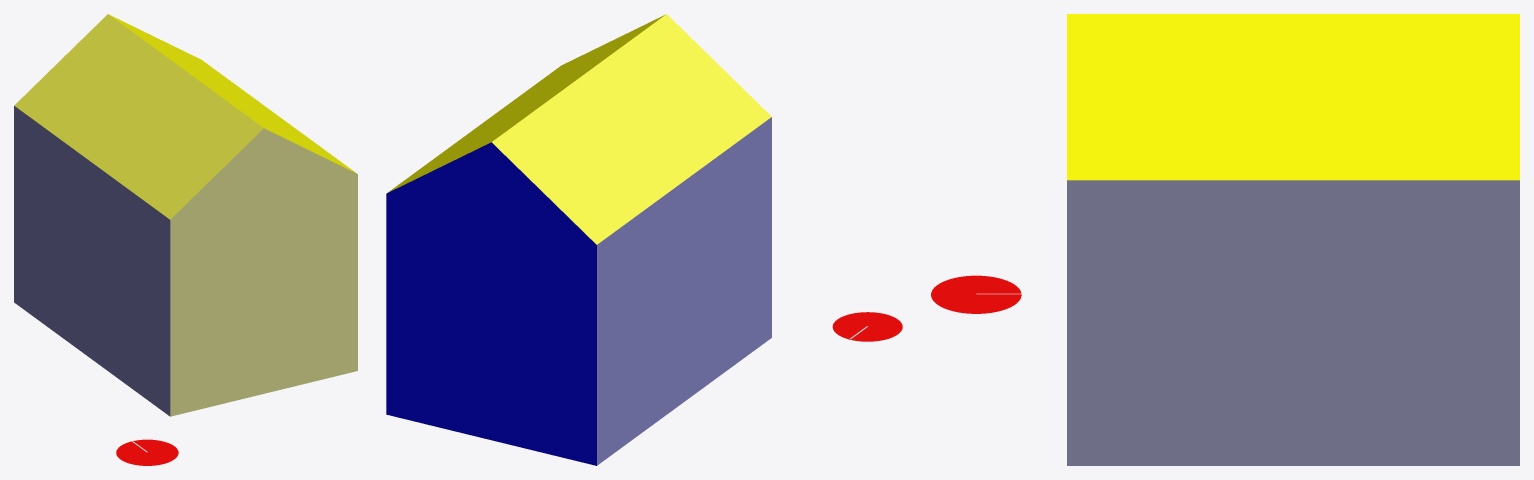
Rendered from result.glb.
3 renders of one model, left to right at view 1: azimuth 30°, elevation 25°; view 2: azimuth 150°, elevation 25°; view 3: azimuth 270°, elevation 25°, orthographic. The views are drawn at different scales.
Parts seen in each view (by area): view 1: ec253f11-99b7-464e-808f-eaf17b80f1d9__undefined, c889fe8f-2758-4382-b1b1-dce0883279e8__undefined, 06c58ec5-49f6-4bf1-b5e3-8625ea0445db__undefined, 00006077-73a7-4659-9203-0abc4ceca480__undefined, 352dc91b-900b-4596-84cf-ec7911061e7b__Circle; view 2: 68ba1d4b-9a14-4a9b-a643-8af99fa6ec01__undefined, c889fe8f-2758-4382-b1b1-dce0883279e8__undefined, 06c58ec5-49f6-4bf1-b5e3-8625ea0445db__undefined, 00006077-73a7-4659-9203-0abc4ceca480__undefined, 352dc91b-900b-4596-84cf-ec7911061e7b__Circle; view 3: cbe91b0c-0bae-4a0a-ad63-01d13e11ad72__undefined, 00006077-73a7-4659-9203-0abc4ceca480__undefined, 352dc91b-900b-4596-84cf-ec7911061e7b__Circle.
Part boxes in pixels (<box>): ec253f11-99b7-464e-808f-eaf17b80f1d9__undefined: <box>170,128,357,416</box>; c889fe8f-2758-4382-b1b1-dce0883279e8__undefined: <box>14,106,170,416</box>; 06c58ec5-49f6-4bf1-b5e3-8625ea0445db__undefined: <box>14,14,263,219</box>; 00006077-73a7-4659-9203-0abc4ceca480__undefined: <box>109,14,356,173</box>; 352dc91b-900b-4596-84cf-ec7911061e7b__Circle: <box>116,439,178,465</box>; 68ba1d4b-9a14-4a9b-a643-8af99fa6ec01__undefined: <box>386,142,596,465</box>; c889fe8f-2758-4382-b1b1-dce0883279e8__undefined: <box>597,117,771,465</box>; 06c58ec5-49f6-4bf1-b5e3-8625ea0445db__undefined: <box>492,14,771,244</box>; 00006077-73a7-4659-9203-0abc4ceca480__undefined: <box>387,14,665,192</box>; 352dc91b-900b-4596-84cf-ec7911061e7b__Circle: <box>832,312,902,341</box>; cbe91b0c-0bae-4a0a-ad63-01d13e11ad72__undefined: <box>1067,180,1519,465</box>; 00006077-73a7-4659-9203-0abc4ceca480__undefined: <box>1067,14,1519,180</box>; 352dc91b-900b-4596-84cf-ec7911061e7b__Circle: <box>931,275,1021,313</box>.
Size of the model in its own units: 497 by 469 by 650.
